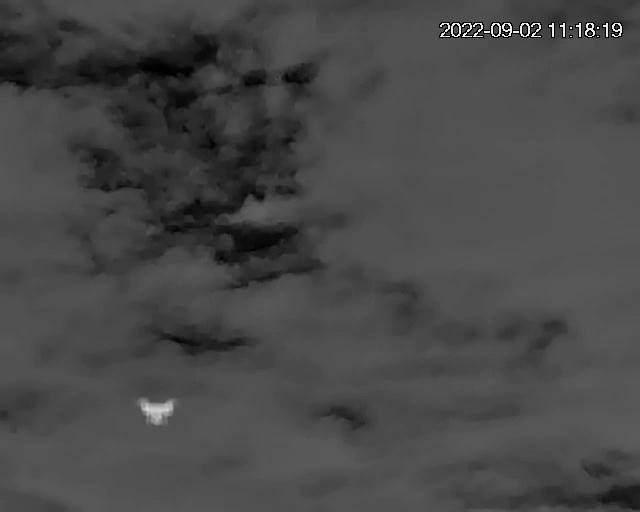DJI-Phantom: (132, 392, 184, 431)
